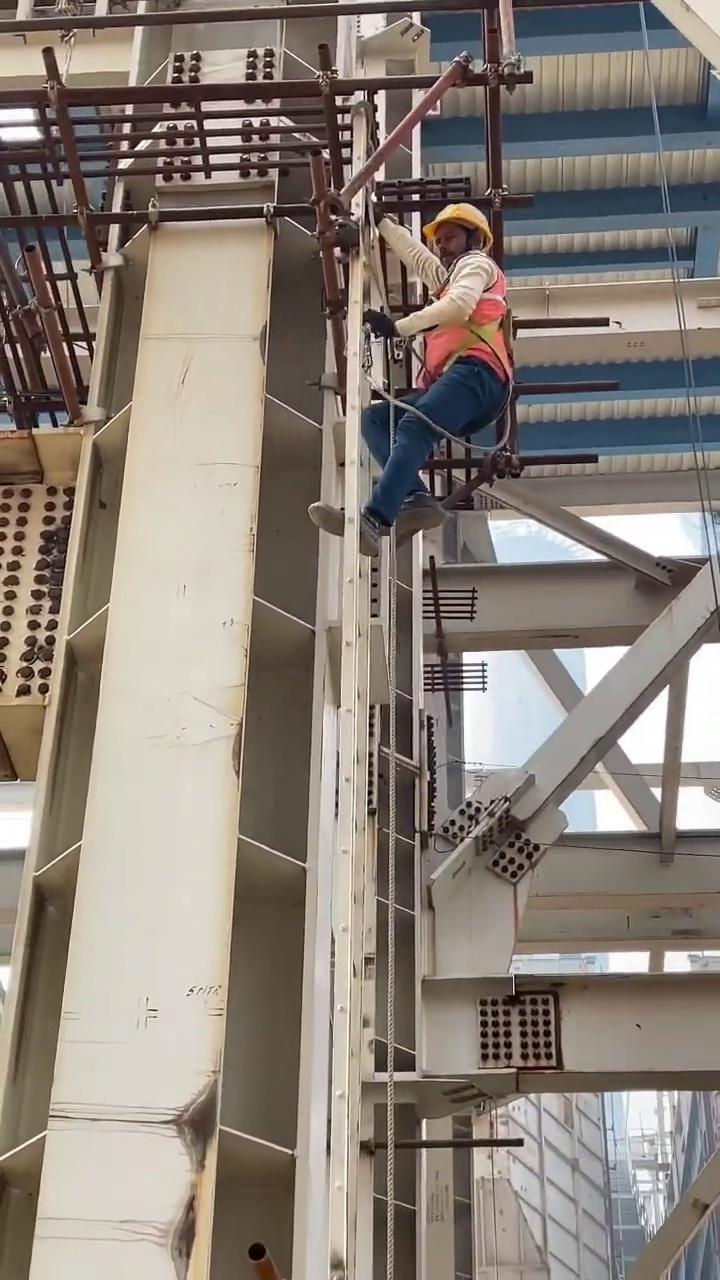Helmet: (424, 200, 493, 237)
Person: (306, 200, 520, 556)
Safety_Harness: (402, 255, 520, 452)
Safety_shoes: (308, 499, 381, 556), (395, 493, 445, 536)
